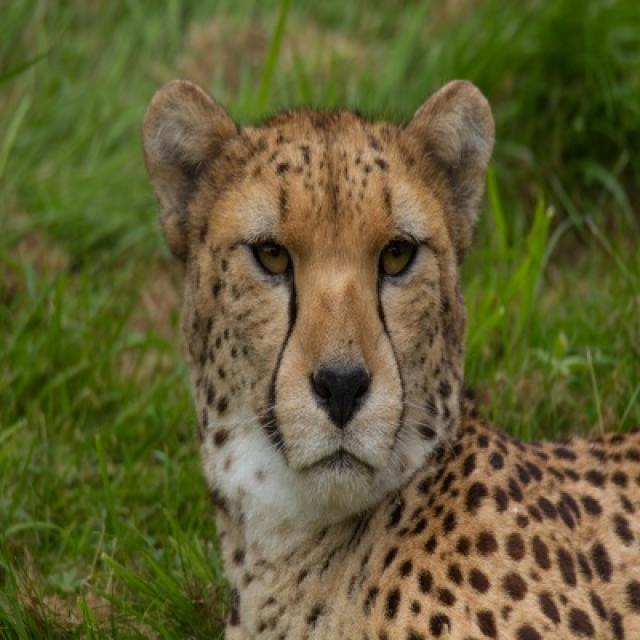Cheetah: (144, 80, 638, 638)
